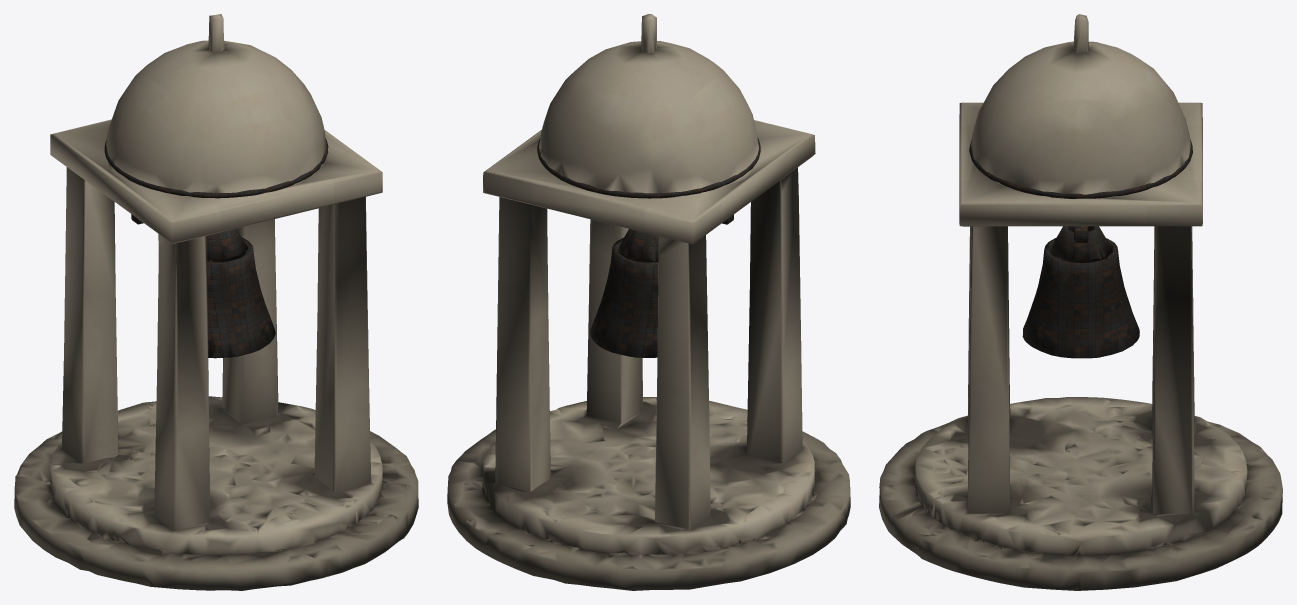
Rendered from hourbell.glb.
The picture shows the model from 3 angles, left to right: view 1: azimuth 30°, elevation 25°; view 2: azimuth 150°, elevation 25°; view 3: azimuth 270°, elevation 25°; orthographic projection.
Visible parts, largest first — view 1: hourbell_stone, hourbell_ironstone; view 2: hourbell_stone, hourbell_ironstone; view 3: hourbell_stone, hourbell_ironstone.
Part boxes in pixels (left/top/right/bottom): hourbell_stone: left=14, top=14, right=418, bottom=590; hourbell_ironstone: left=104, top=138, right=328, bottom=358; hourbell_stone: left=447, top=14, right=850, bottom=590; hourbell_ironstone: left=537, top=137, right=760, bottom=357; hourbell_stone: left=879, top=14, right=1282, bottom=590; hourbell_ironstone: left=969, top=139, right=1192, bottom=358.
Bounding box in the file's own units: 6.79 × 9.13 × 6.79.
Materials: 3 (2 with a texture image).
